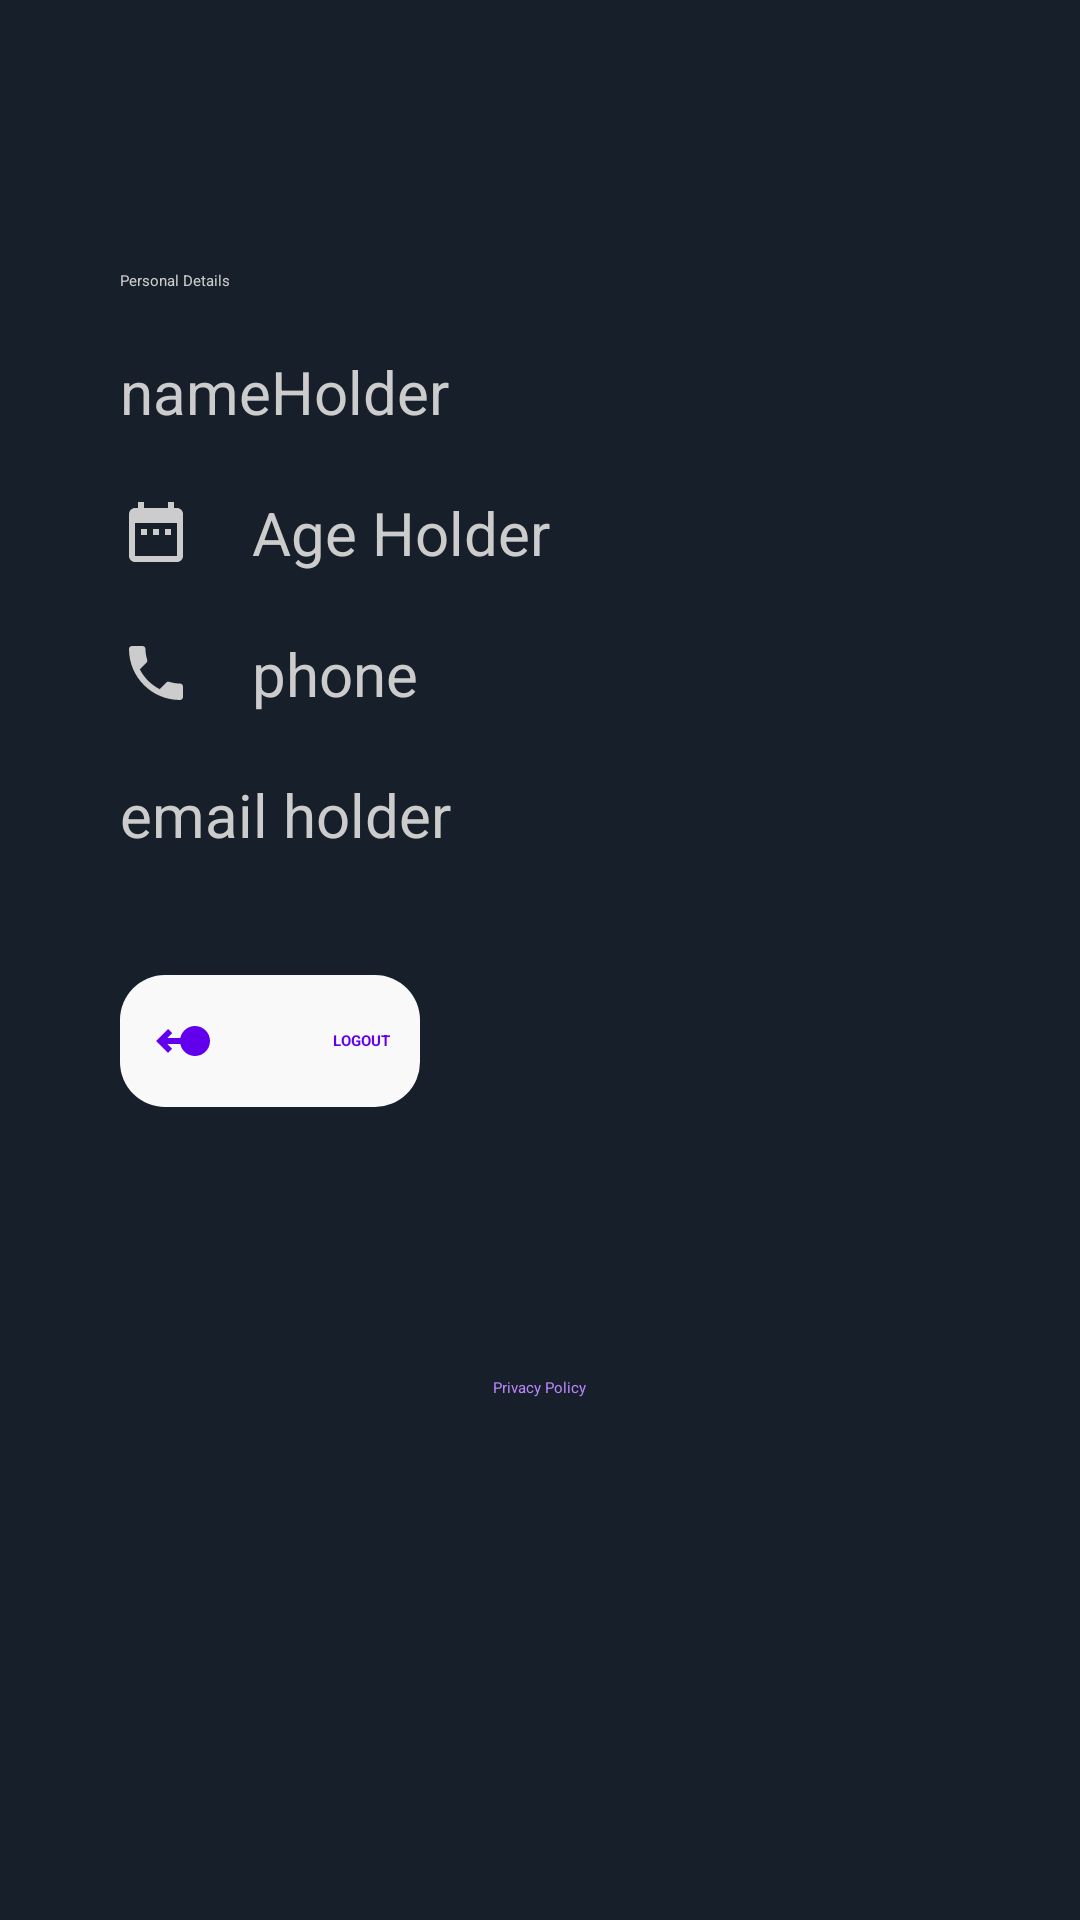

Icons on this 1080px x 1920px Android screen, each with the point to tap as point (x, y):
swipe left: point (183, 1041)
